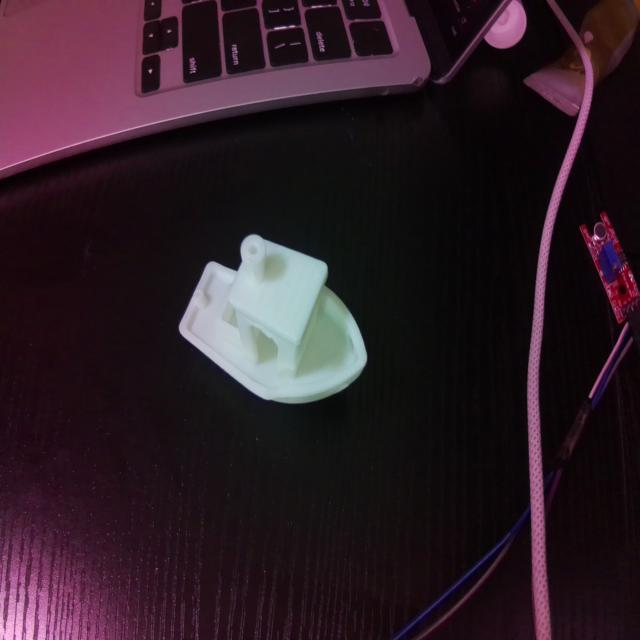ship: (180, 232, 368, 406)
